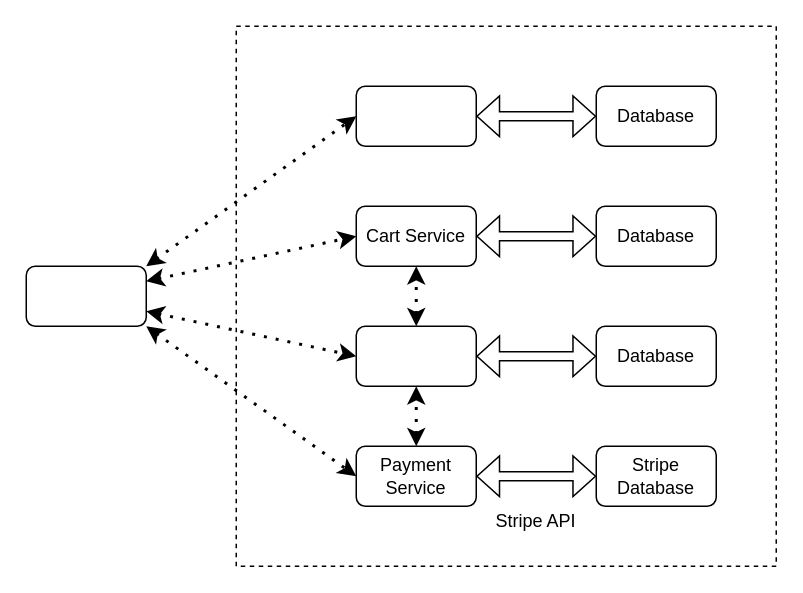
The diagram is 803 pixels wide and 593 high, and some of its shapes have lost their labels. The centre of each missing label's shape, as x and y in pixels:
"Client" goes at point 85,295.
"Order Service" goes at point 415,355.
"Product Service" goes at point 415,115.
